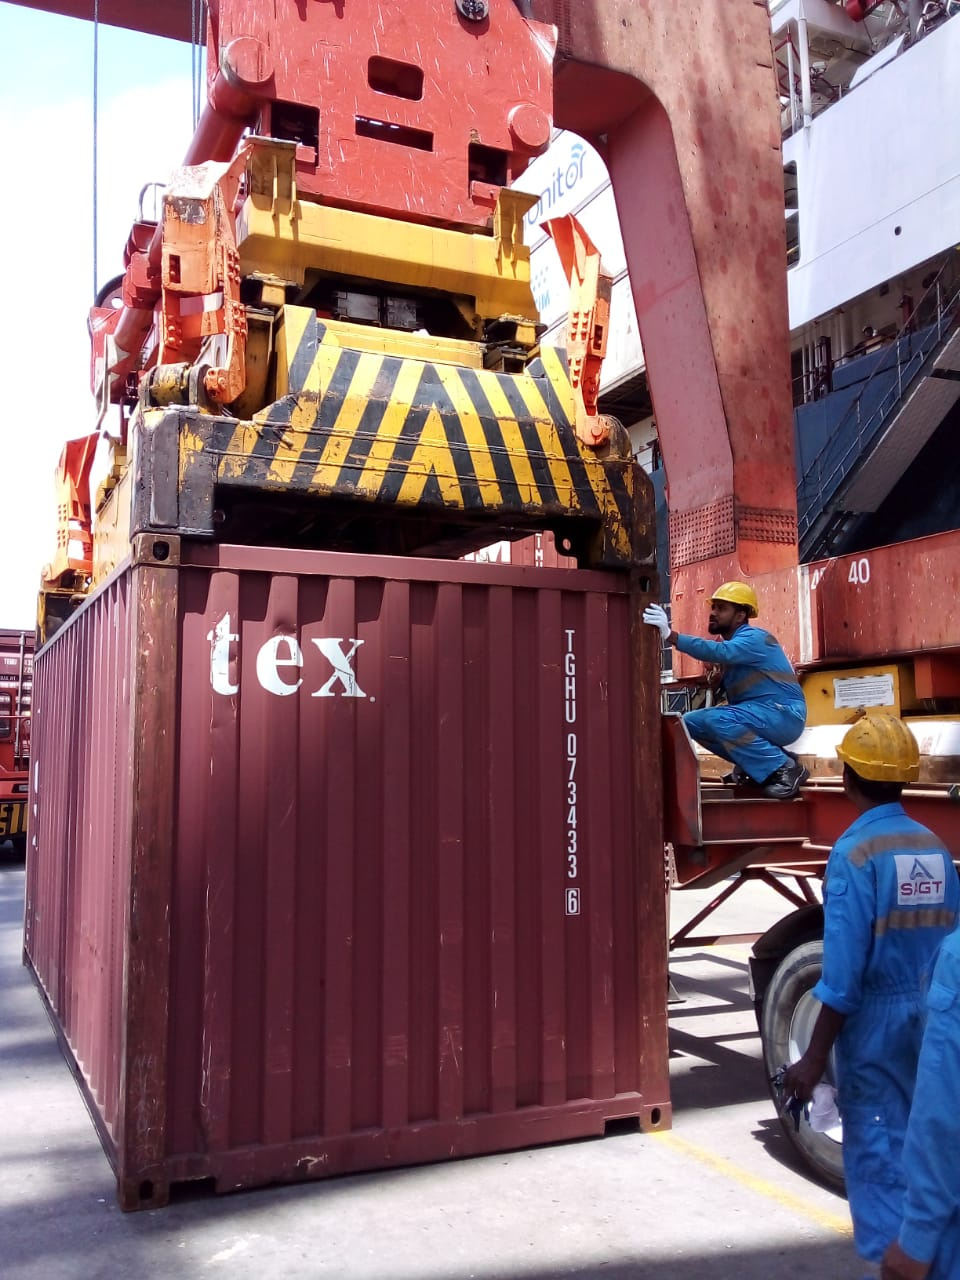bulged: (249, 607, 313, 642)
